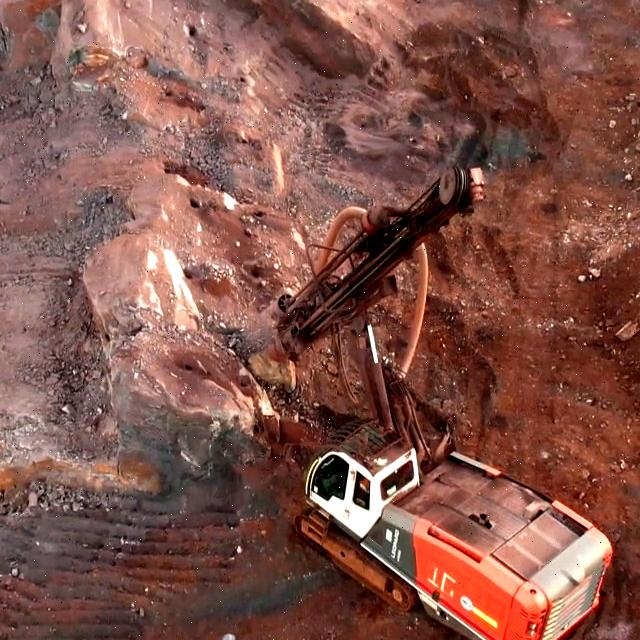Blast rig: (318, 420, 618, 640)
